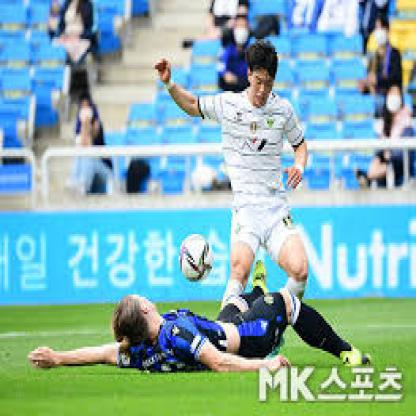Fall_Down: (25, 258, 375, 376)
